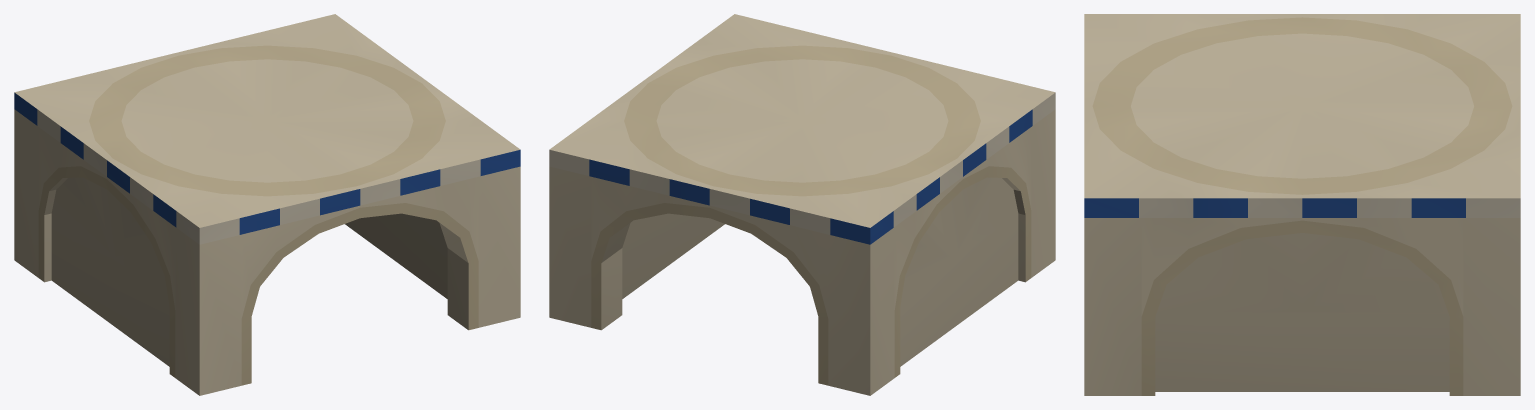
Rendered from dome.arch_2way.blue.glb.
3 views of the same model, side by side, from view 1: azimuth 30°, elevation 25°; view 2: azimuth 150°, elevation 25°; view 3: azimuth 270°, elevation 25° (orthographic). The views are drawn at different scales.
Parts seen in each view (by area): view 1: dome_arch_2way_blue; view 2: dome_arch_2way_blue; view 3: dome_arch_2way_blue.
Boxes of the visible parts, left/top/right/bottom form: dome_arch_2way_blue: left=14, top=14, right=520, bottom=395; dome_arch_2way_blue: left=549, top=14, right=1055, bottom=395; dome_arch_2way_blue: left=1084, top=14, right=1520, bottom=395.
Size of what is drawn, in the model's own units: 8 by 4 by 8.
